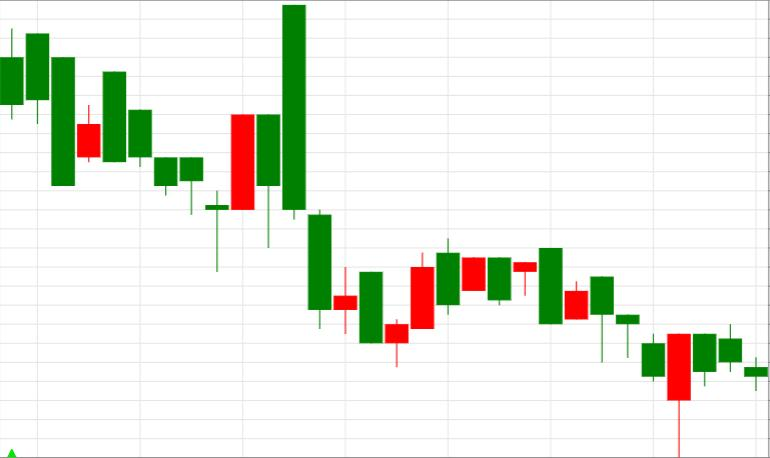bullish_engulfing_rise: (539, 247, 691, 458)
